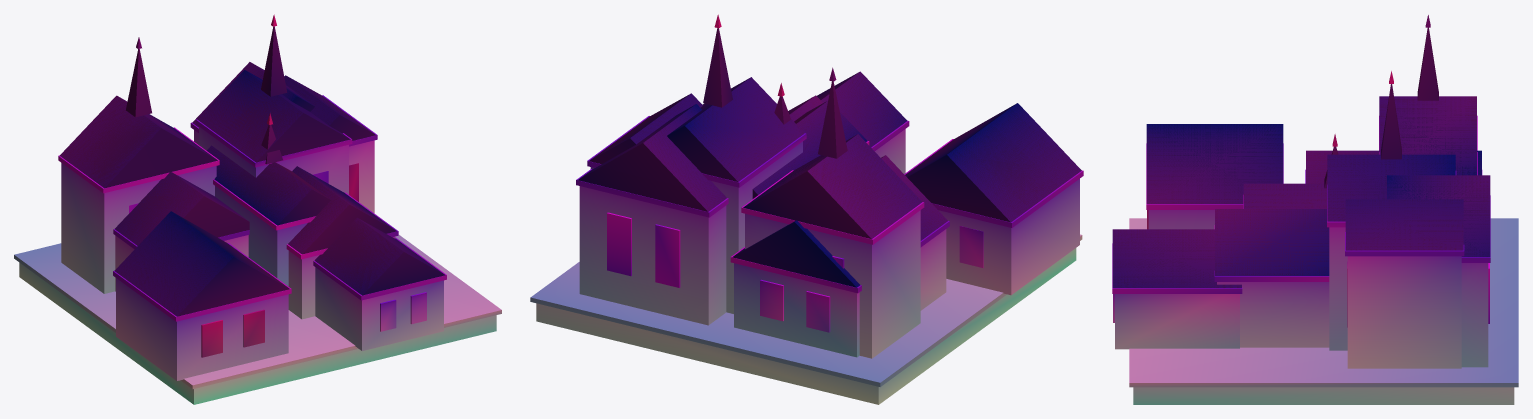
File: city_cluster_a.glb
The picture shows the model from 3 angles, left to right: view 1: azimuth 30°, elevation 25°; view 2: azimuth 150°, elevation 25°; view 3: azimuth 270°, elevation 25°; orthographic projection. The views are drawn at different scales.
Parts seen in each view (by area): view 1: city_roof, city, city_trim, city_windows, city_dark; view 2: city, city_roof, city_trim, city_dark; view 3: city_roof, city, city_trim.
Boxes of the visible parts, left/top/right/bottom form: city_roof: left=60, top=26, right=445, bottom=316; city: left=19, top=127, right=496, bottom=404; city_trim: left=14, top=95, right=501, bottom=389; city_windows: left=201, top=163, right=358, bottom=357; city_dark: left=129, top=171, right=426, bottom=331; city: left=536, top=129, right=1079, bottom=404; city_roof: left=578, top=28, right=1081, bottom=287; city_trim: left=530, top=97, right=1083, bottom=386; city_dark: left=607, top=212, right=983, bottom=332; city_roof: left=1112, top=27, right=1490, bottom=288; city: left=1115, top=210, right=1514, bottom=404; city_trim: left=1112, top=115, right=1518, bottom=387.
Bounding box in the file's own units: 18.92 × 14.55 × 19.2.
